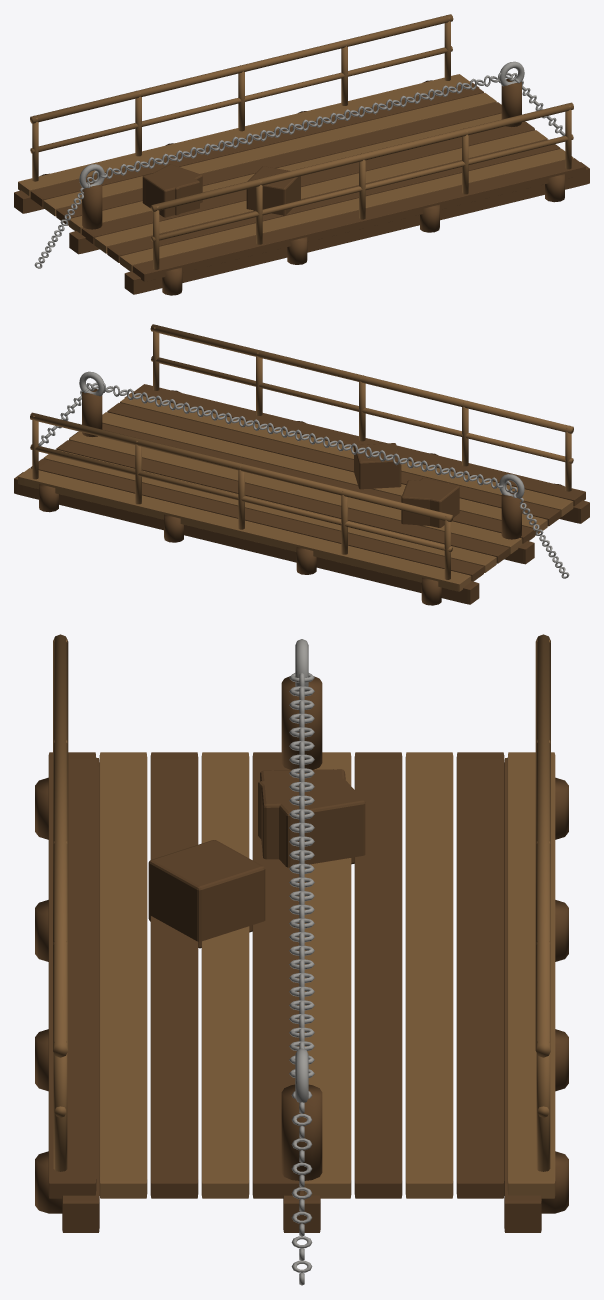
The model's file is faehre.glb.
3 renders of one model, top to bottom at view 1: azimuth 30°, elevation 25°; view 2: azimuth 150°, elevation 25°; view 3: azimuth 270°, elevation 25°, orthographic. The views are drawn at different scales.
Visible parts, largest first — view 1: Cube; view 2: Cube; view 3: Cube.
Part boxes in pixels (<box>): Cube: <box>14,14,589,295</box>; Cube: <box>14,324,589,605</box>; Cube: <box>35,634,568,1285</box>.
Bounding box in the file's own units: 7.26 × 1.23 × 3.14.
